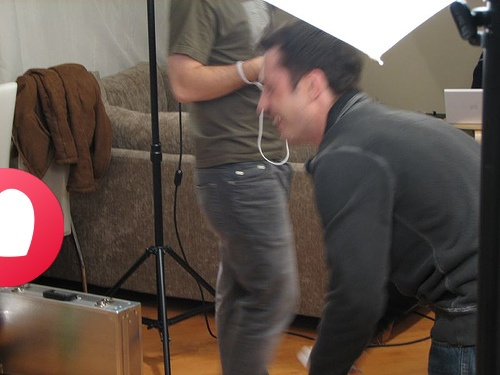love: (0, 168, 64, 287)
